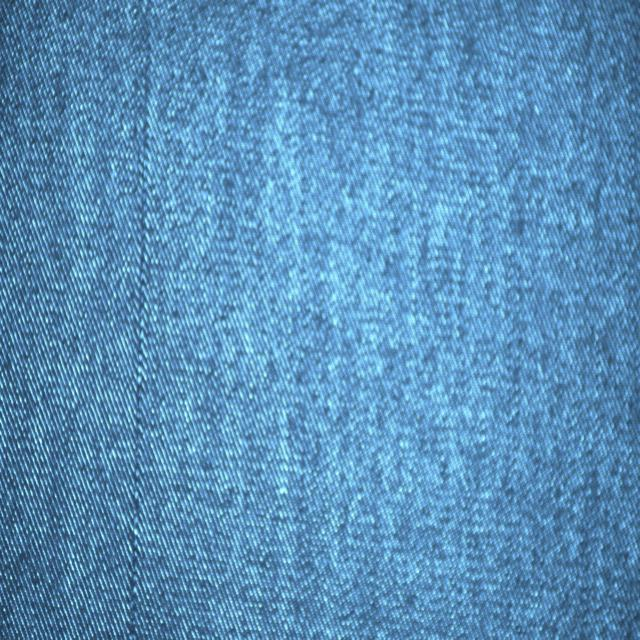Line: (128, 1, 151, 638)
